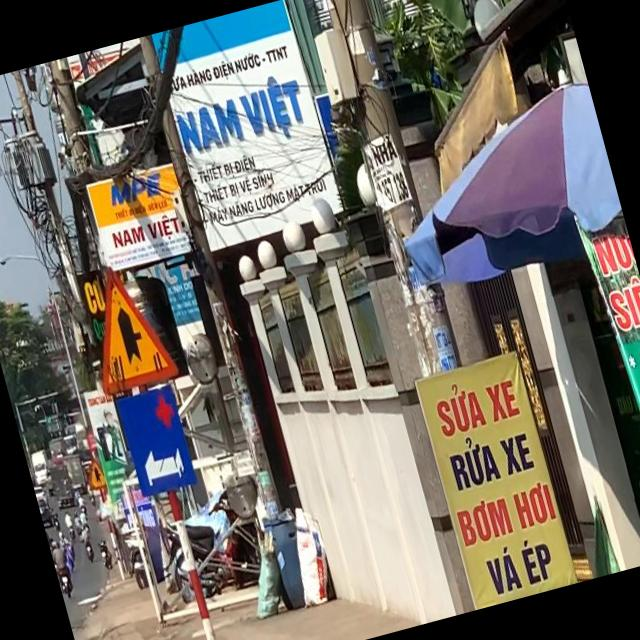I-425: (116, 385, 200, 493)
W-207b: (72, 256, 178, 396)
